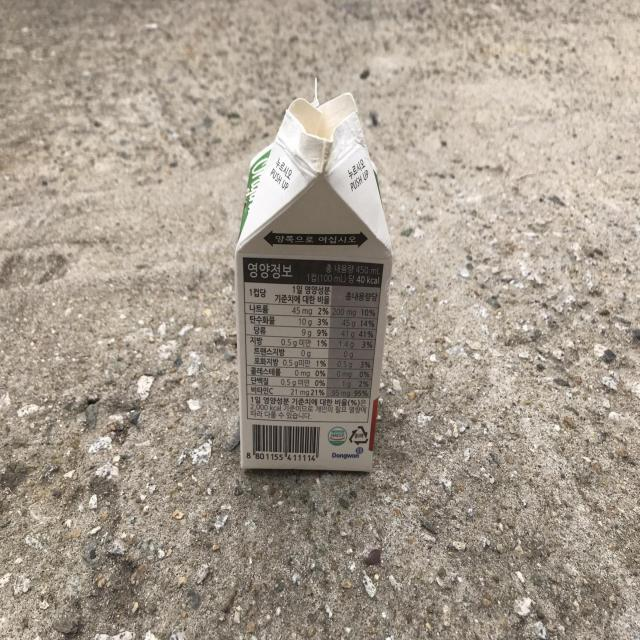paperpack: (235, 93, 392, 471)
